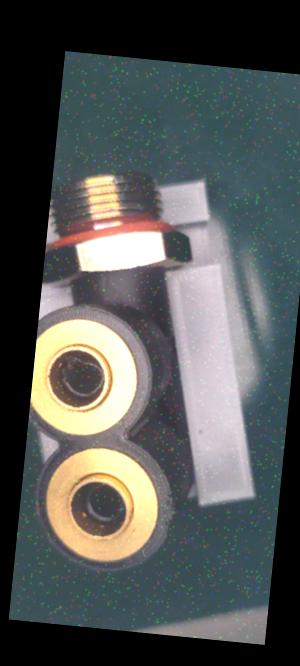bump: (159, 501, 179, 536)
off-centered: (58, 353, 113, 407)
white mark: (98, 275, 115, 291)
